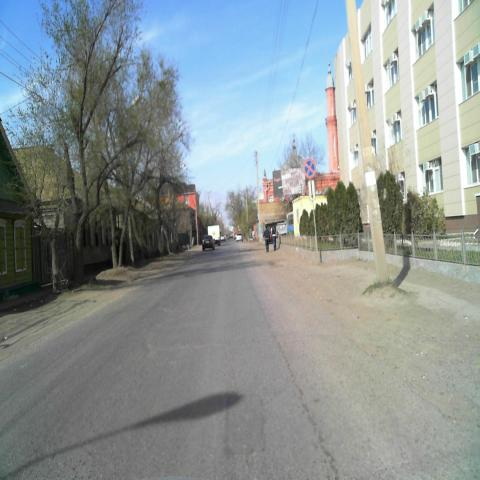8_2_3: (308, 178, 316, 204)
